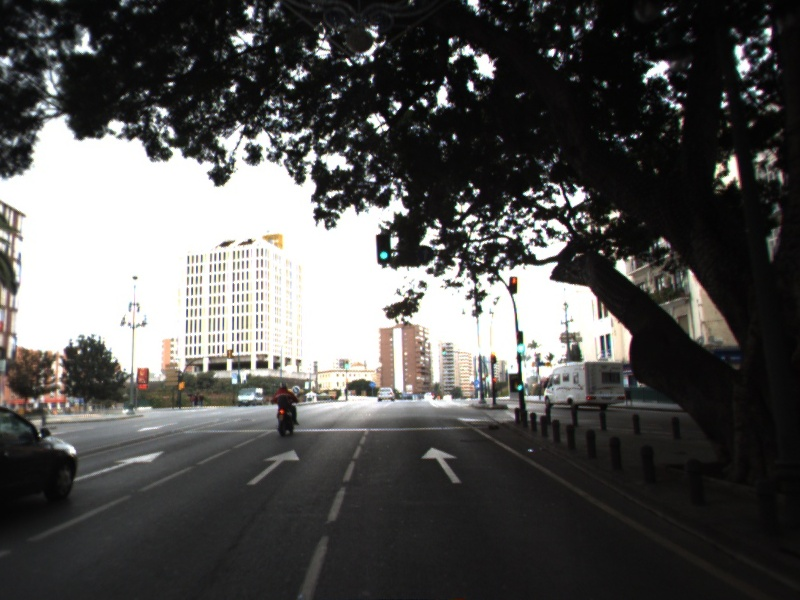STRAIGHT: (72, 449, 167, 483), (244, 448, 302, 487), (418, 445, 464, 485)
